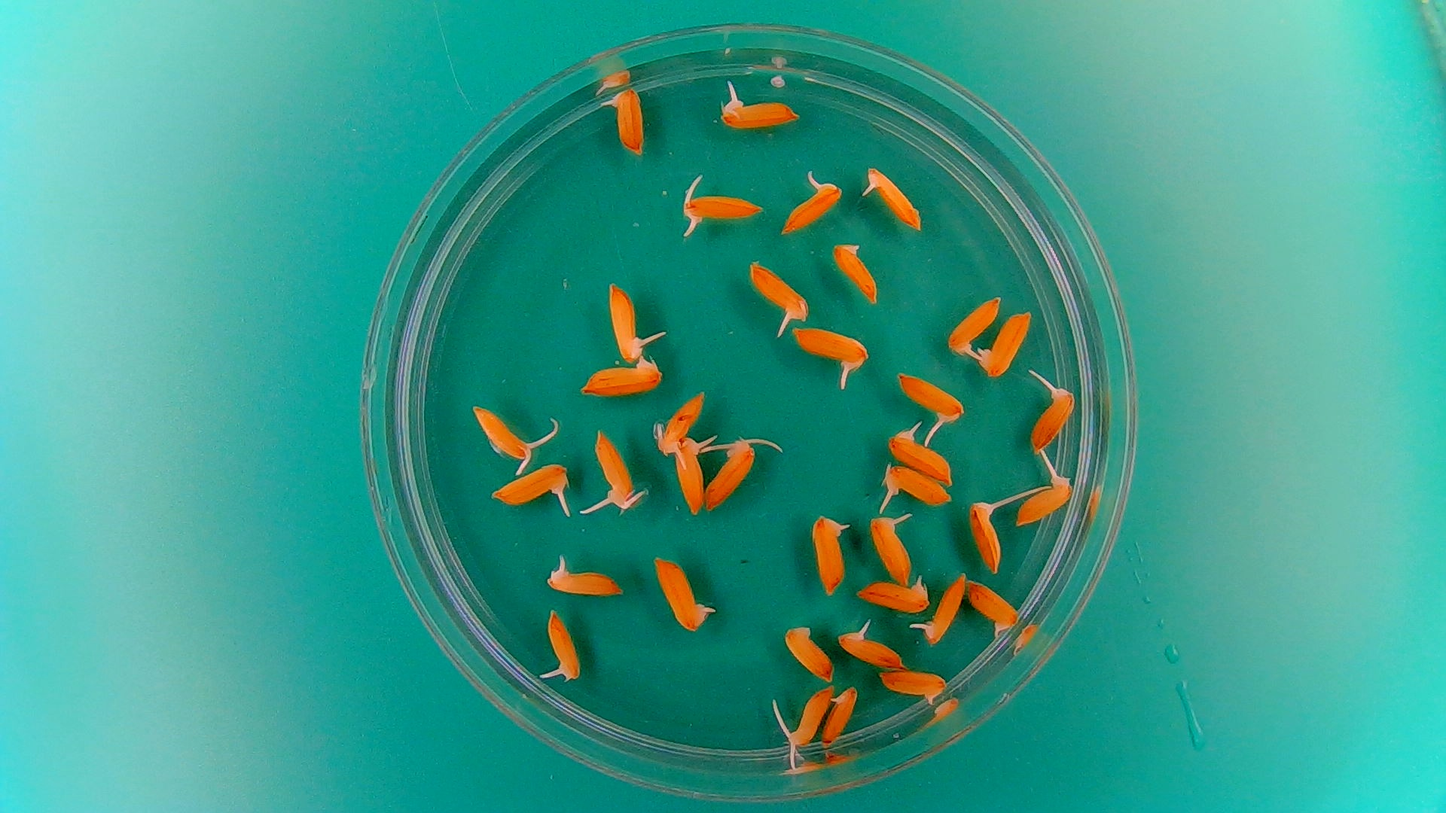no: (577, 355, 666, 399), (829, 236, 882, 304), (966, 577, 1022, 638), (780, 623, 834, 683), (874, 666, 949, 706), (821, 684, 859, 745)
yes: (650, 560, 709, 631), (865, 168, 925, 233), (1030, 373, 1078, 454), (703, 443, 758, 512), (748, 263, 810, 322), (945, 293, 1002, 357), (979, 307, 1031, 376), (468, 406, 533, 461), (654, 388, 707, 455), (890, 430, 956, 483), (923, 569, 969, 644), (779, 177, 837, 236), (837, 621, 907, 668), (493, 464, 569, 507), (967, 495, 1008, 574), (673, 434, 711, 519), (596, 437, 640, 510), (795, 325, 866, 370), (868, 513, 912, 585), (809, 516, 848, 597), (883, 464, 956, 507), (542, 612, 585, 685), (896, 376, 964, 421), (604, 286, 643, 362), (856, 575, 933, 613), (787, 684, 833, 744), (1014, 475, 1069, 525), (606, 85, 645, 152), (682, 192, 763, 224), (717, 96, 791, 129), (550, 567, 620, 598)
